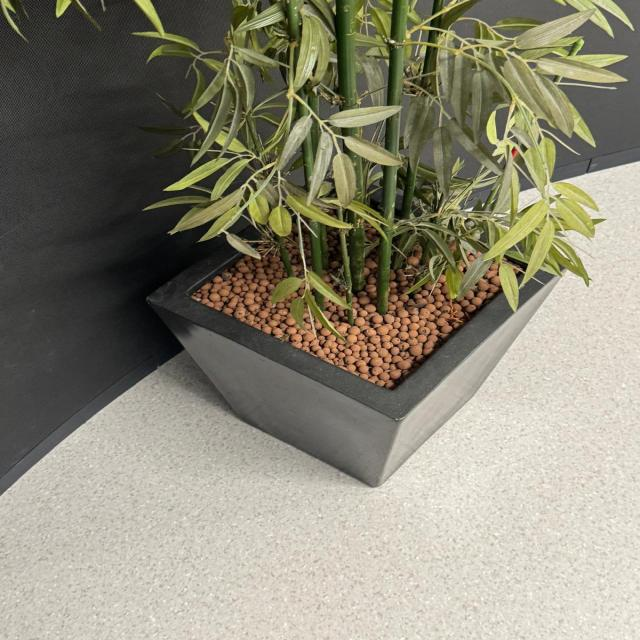Pot: (149, 180, 574, 489)
